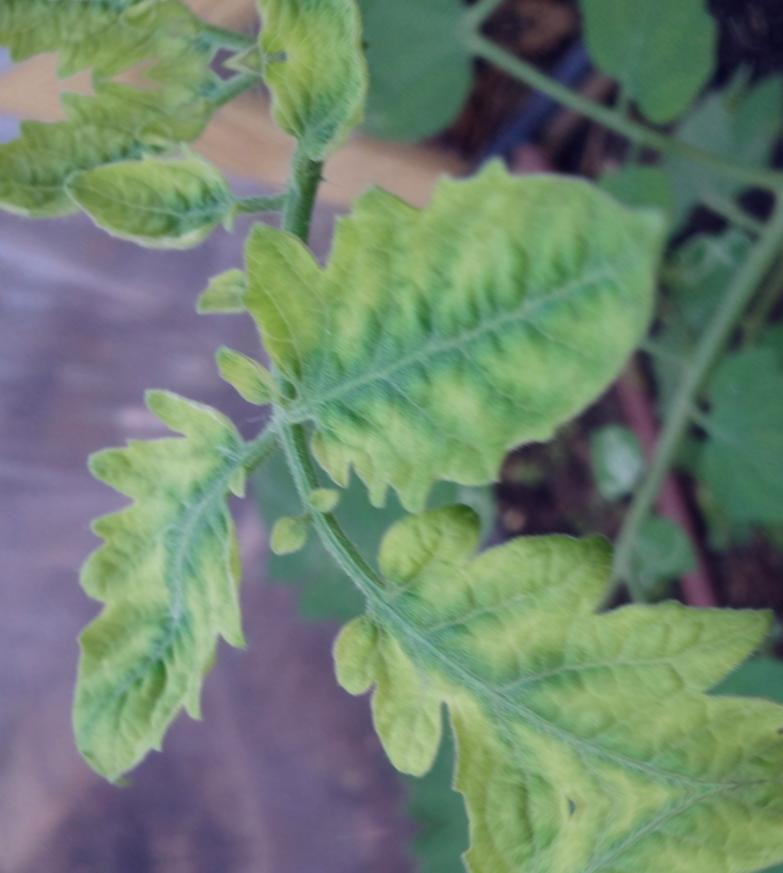Tomato leaf yellow virus: (246, 115, 756, 506), (305, 457, 783, 837), (10, 384, 314, 846), (0, 66, 224, 247), (53, 149, 243, 274)
